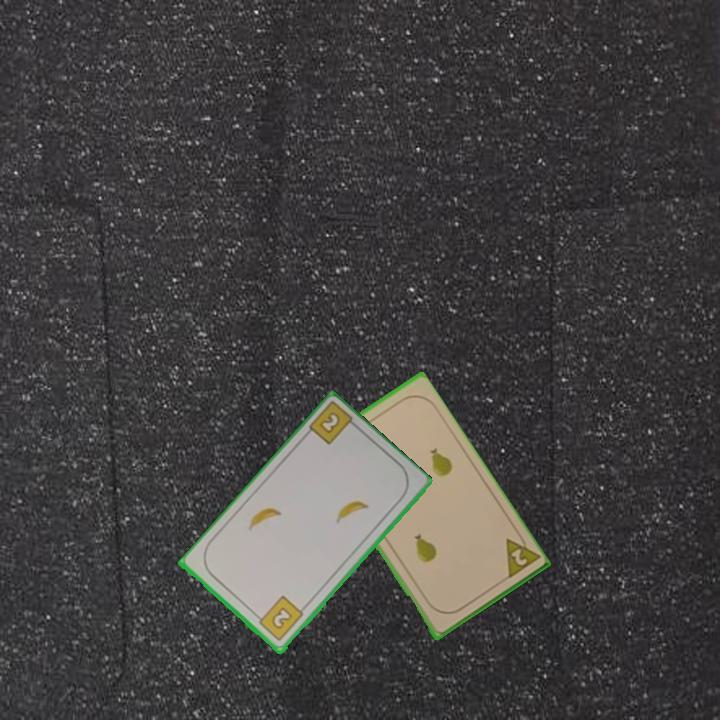2b: (252, 593, 306, 644), (316, 408, 343, 437)
2p: (502, 528, 541, 582)
